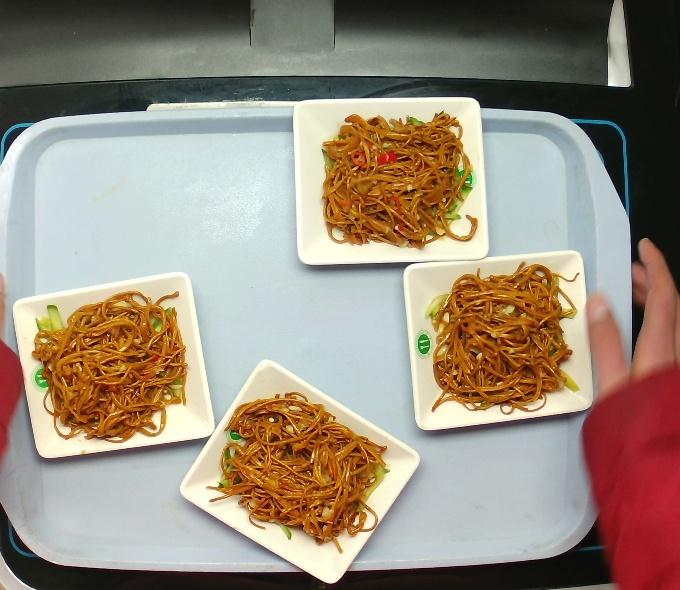wcq-LiangBanChongCaoHua: (211, 387, 394, 562), (419, 256, 584, 423), (25, 285, 192, 443), (315, 106, 486, 253)
